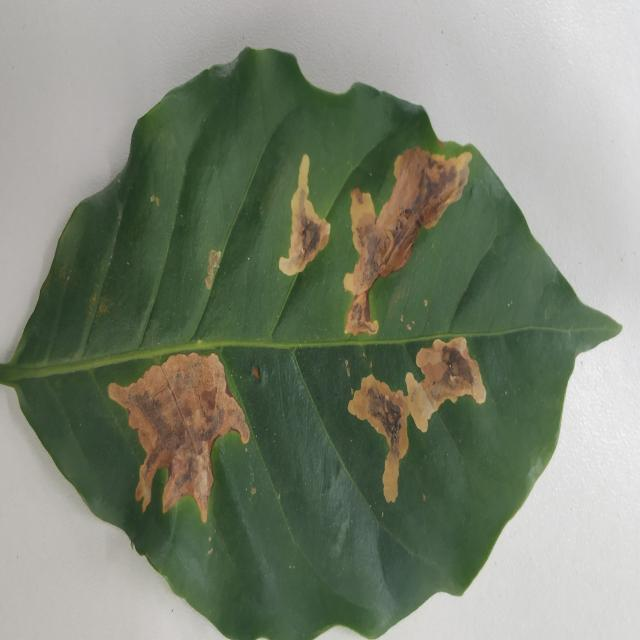Plaga-Minador: (0, 48, 622, 640)
